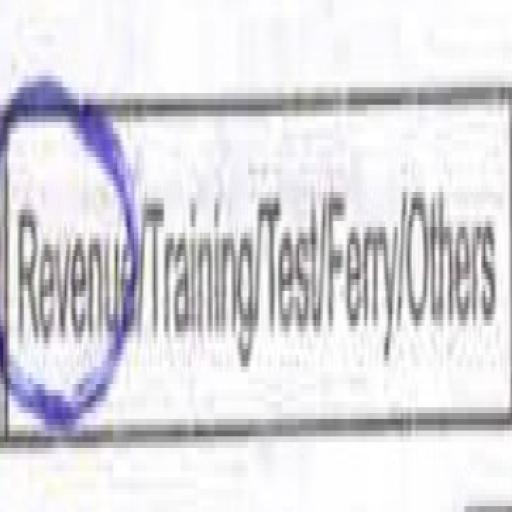check: (0, 12, 145, 486)
